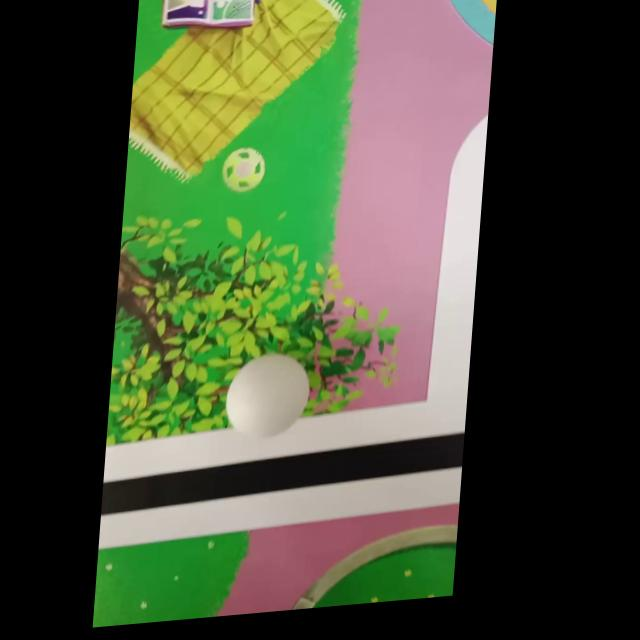white ball: (223, 349, 313, 442)
